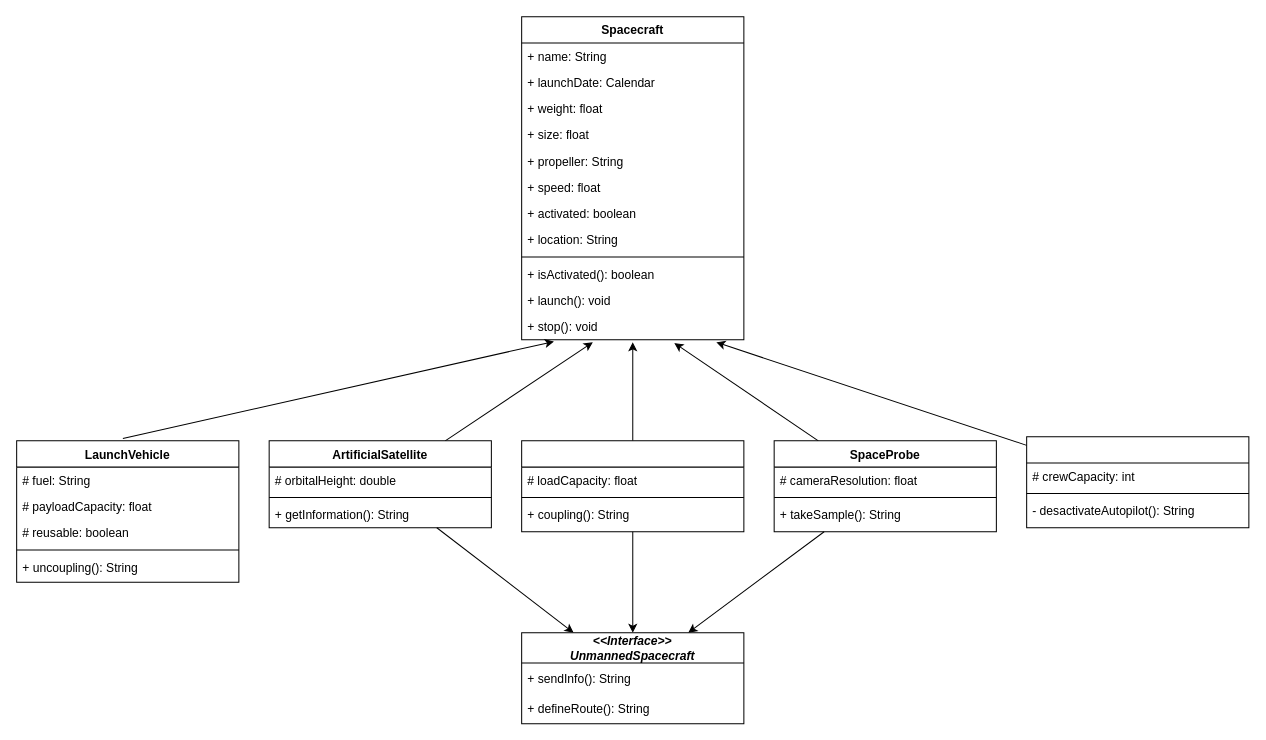
Image size: 1266x740. Some labels were removed from this diagram. Each missing label, with the box of its shape:
MannedSpacecraft: (1026, 436, 1249, 528)
UnmannedTransport: (521, 440, 744, 532)
